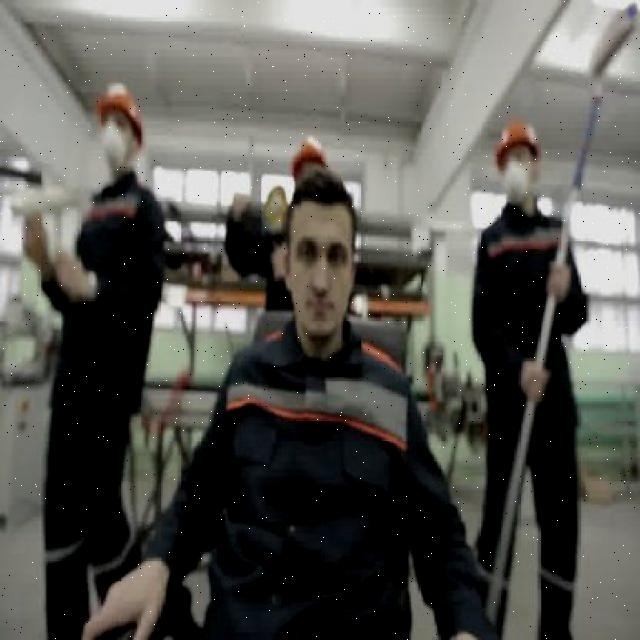Helmet: (94, 82, 148, 153), (496, 120, 541, 172), (292, 138, 325, 172)
Mask: (138, 312, 491, 638), (41, 171, 168, 638), (473, 198, 592, 638)
